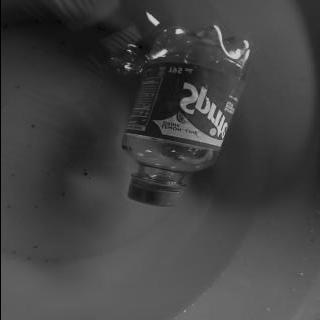bottle: (120, 24, 252, 207)
